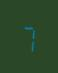seven: (19, 19, 36, 53)
